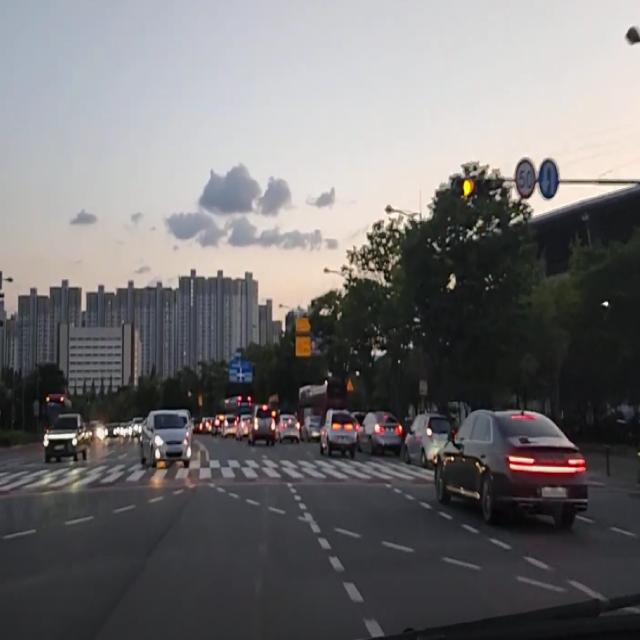Yellow Light: (462, 174, 475, 199)
